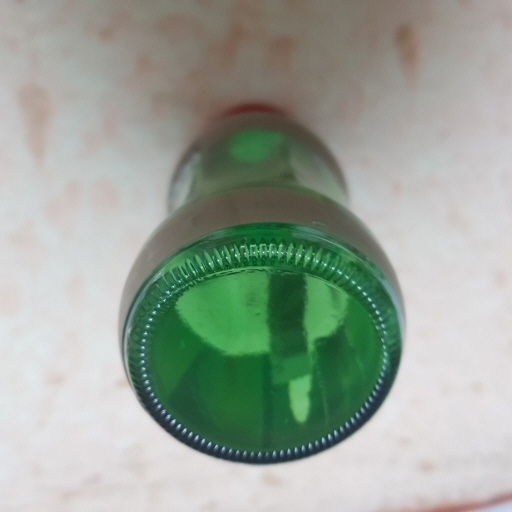Glass_4: (117, 101, 408, 466)
